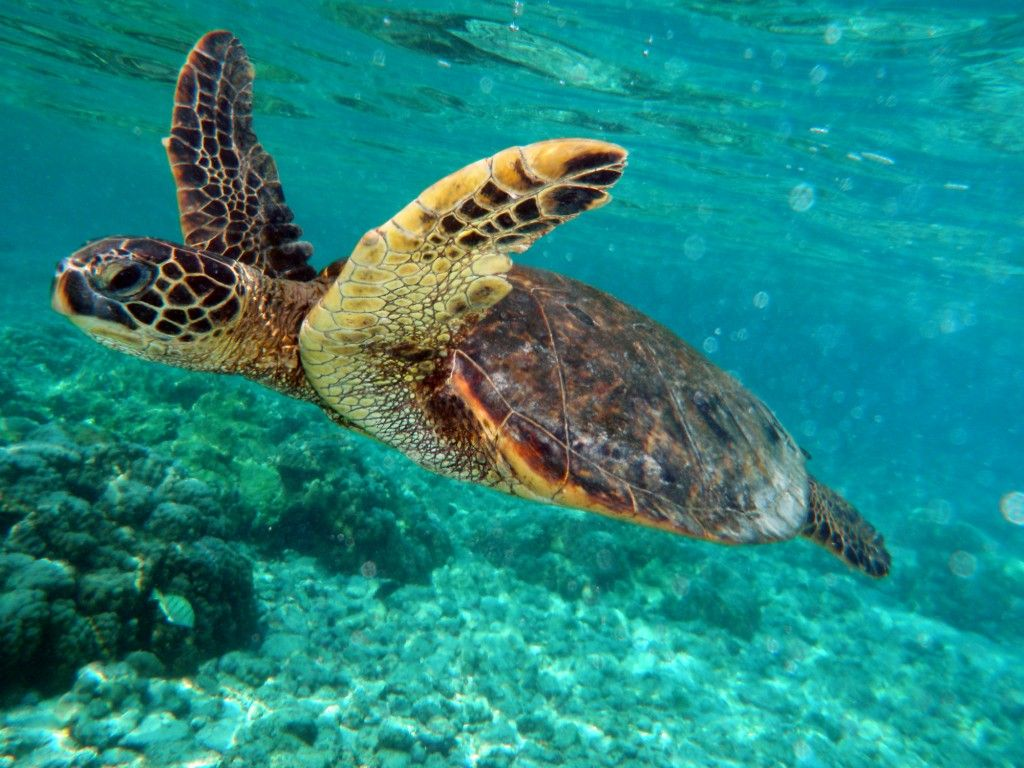eye: (97, 258, 149, 301)
mouth: (52, 305, 179, 356)
